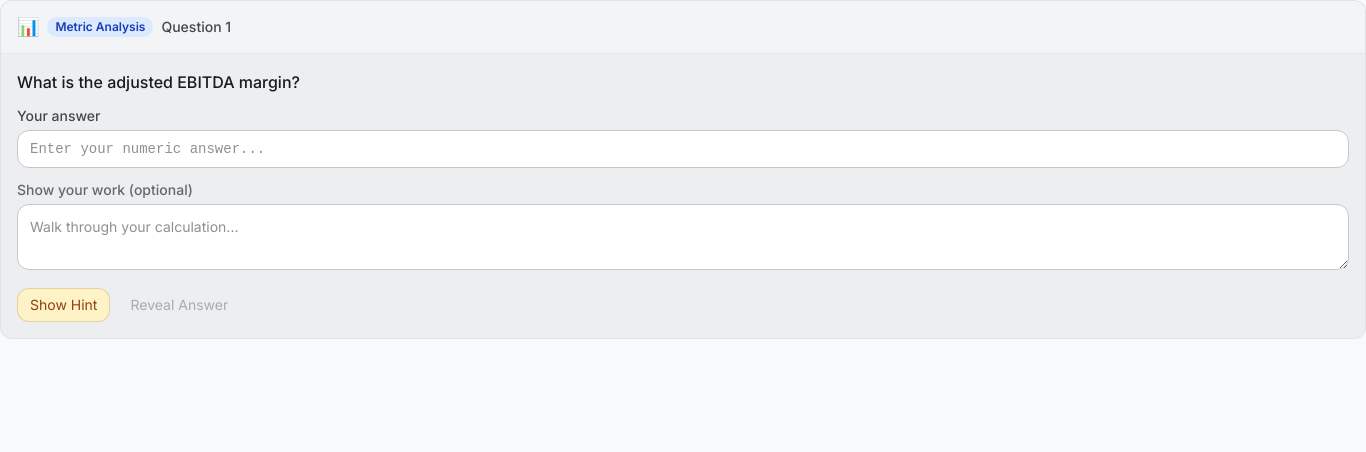
Test: QuestionCard keyboard shortcuts › reveals the model answer on Enter when a valid answer is committed
Type "16.9" into the number field with placeholder "Enter your numeric answer...".
click(683, 149); type("16.9")  # box x1=17 y1=130 x2=1349 y2=168
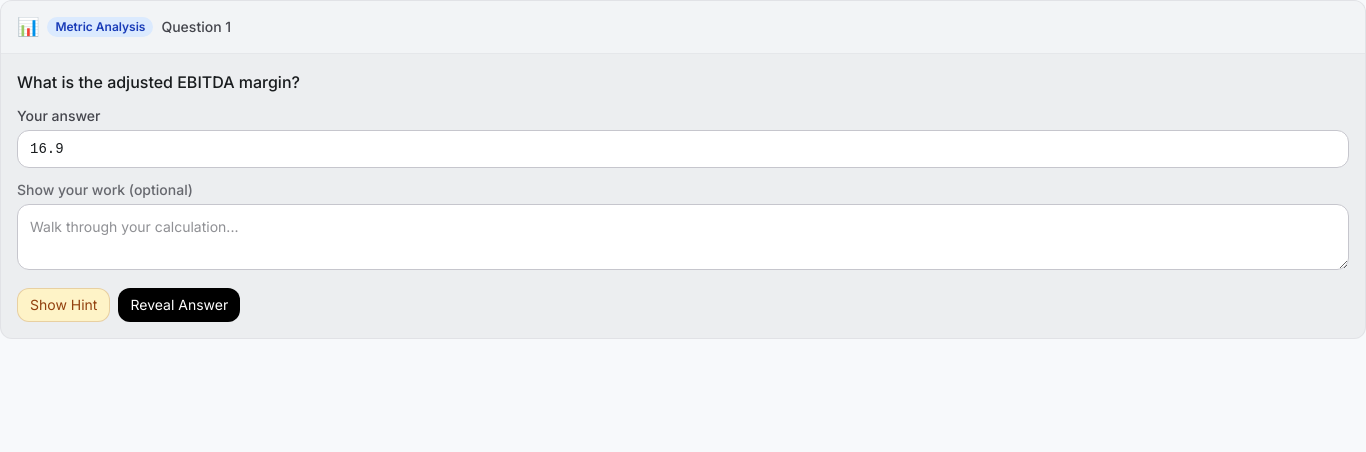
Press Enter
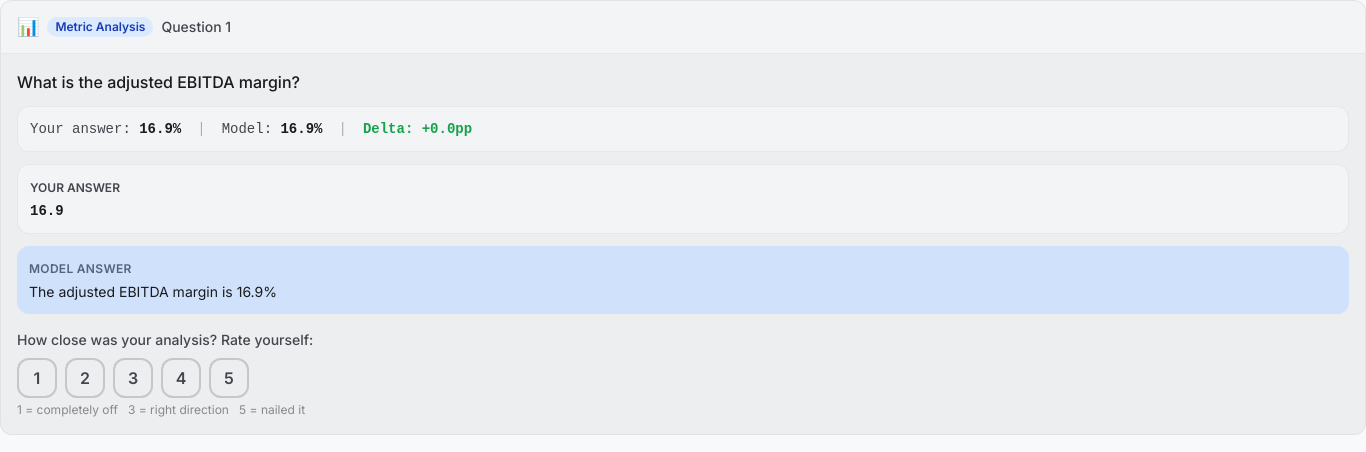
expect the text "Model Answer" is shown: met, box x1=29 y1=261 x2=132 y2=276
